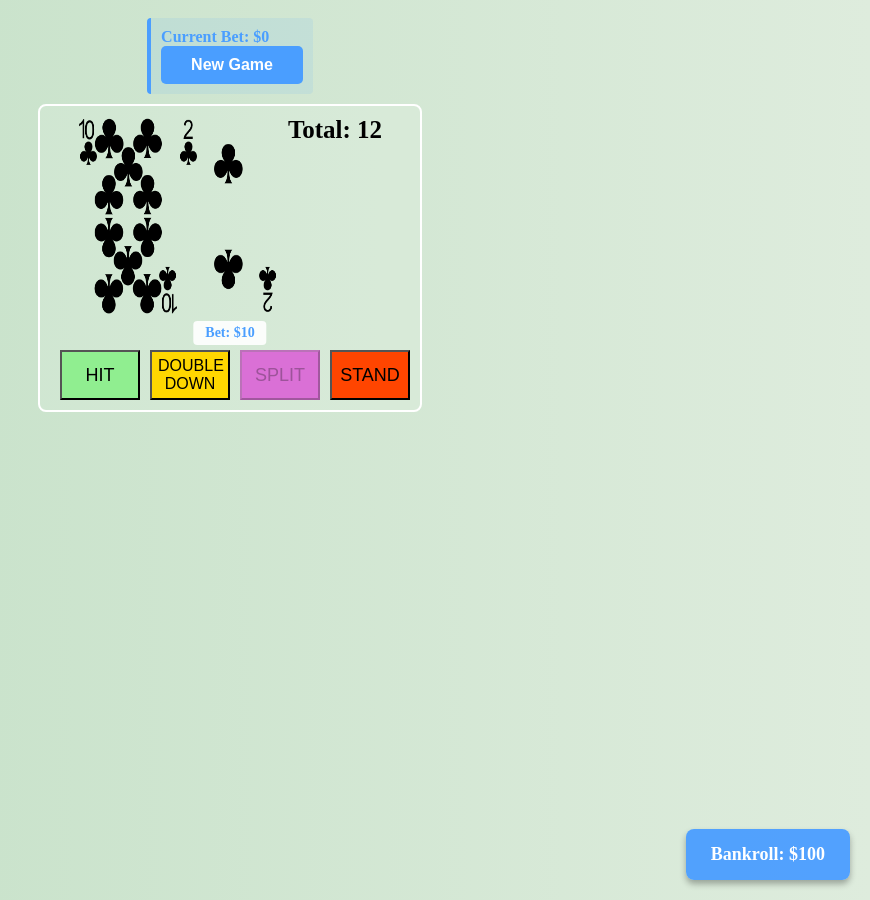
Test: Player Component › draws card when hitting
Click the button "HIT" at [100, 375], box 60,350 -> 140,400
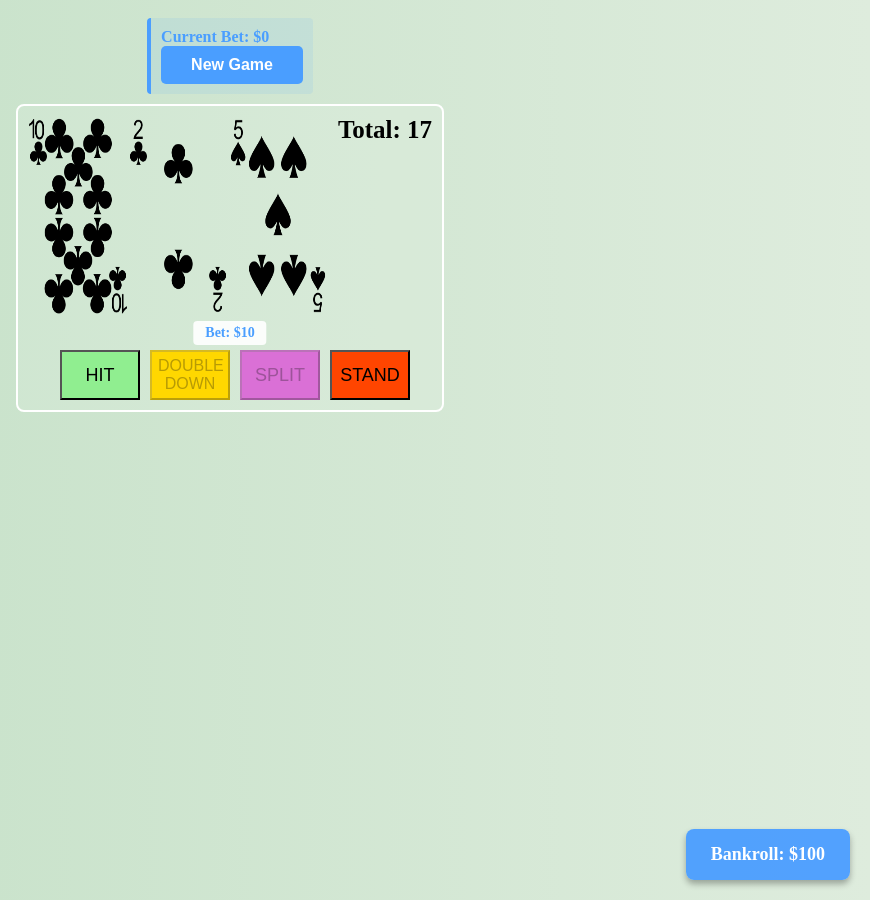
Expected: the text "Total: 17" is shown, 338,116 -> 432,143
